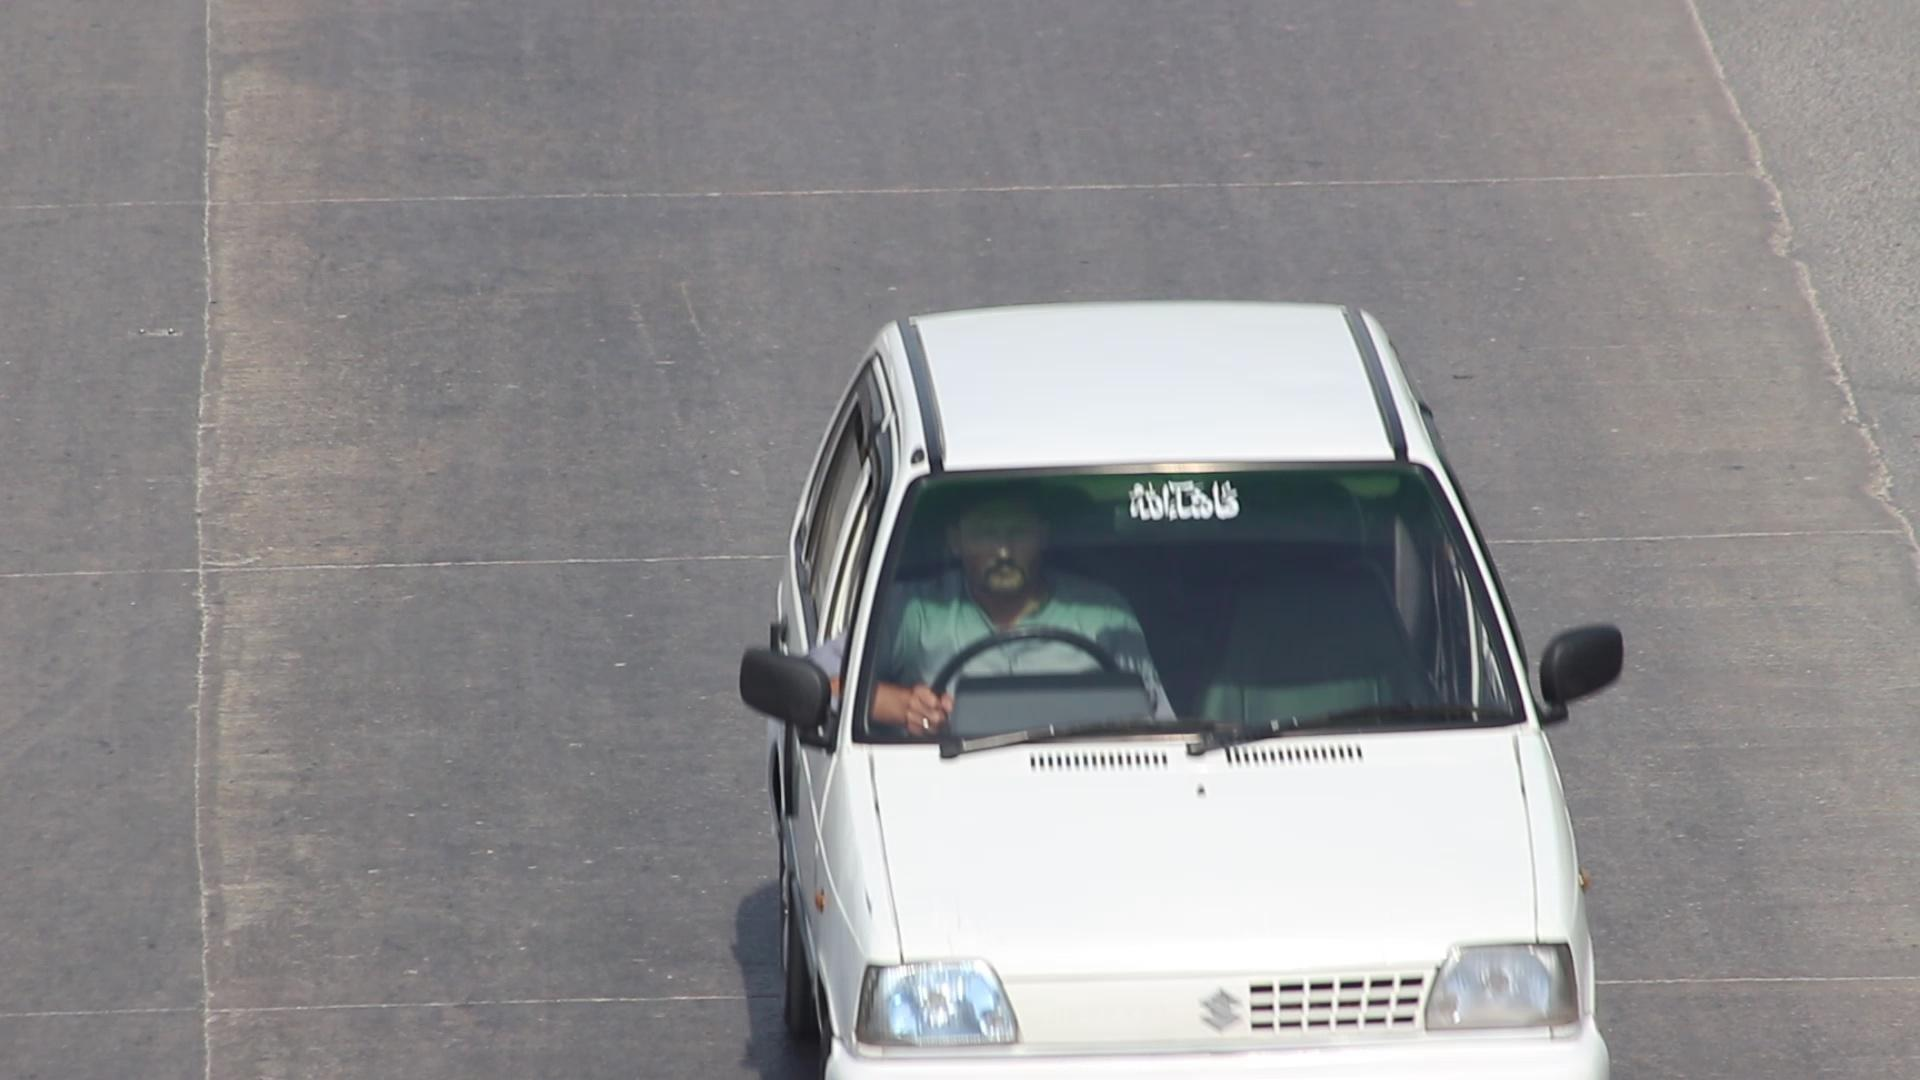windshield: (855, 467, 1534, 757)
